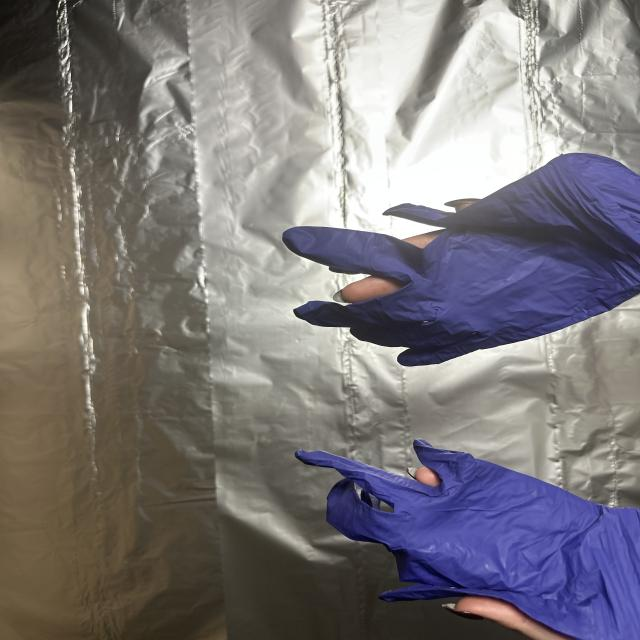glove_not_fitted: (278, 152, 640, 369), (291, 439, 640, 640)
